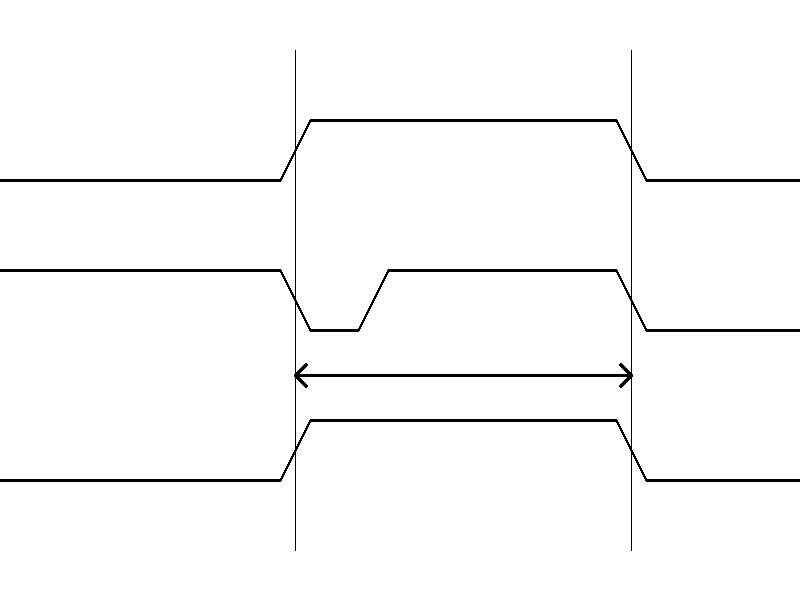double_arrow: (295, 360, 631, 390)
